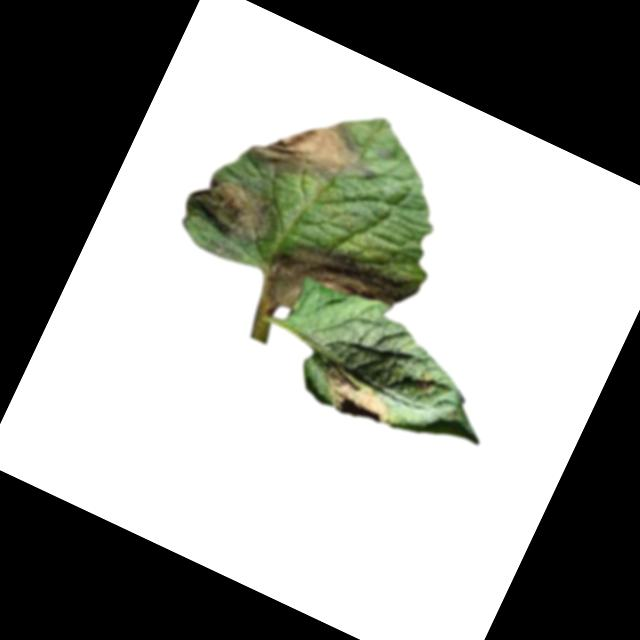Late_blight: (255, 219, 424, 359), (242, 88, 387, 211), (189, 167, 289, 258), (310, 356, 403, 433)
